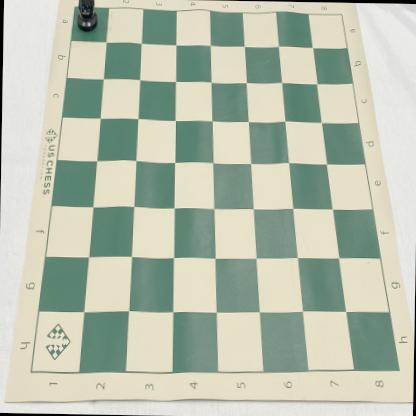knight: (74, 0, 101, 34)
